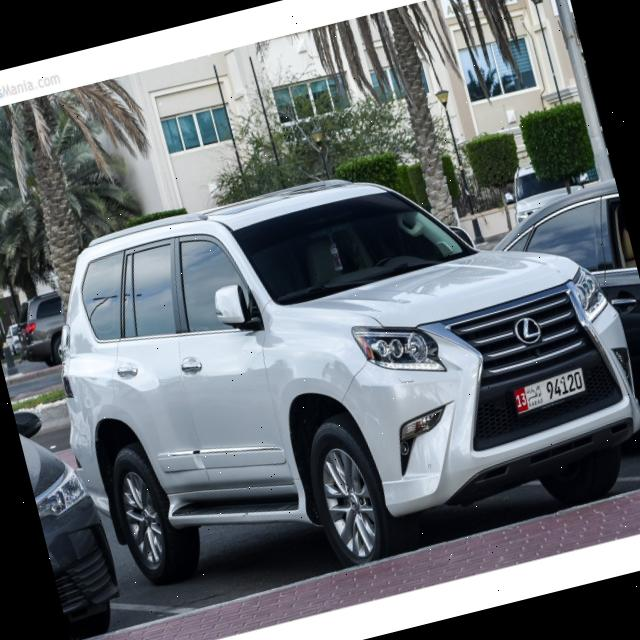License-plate: (510, 365, 588, 414)
